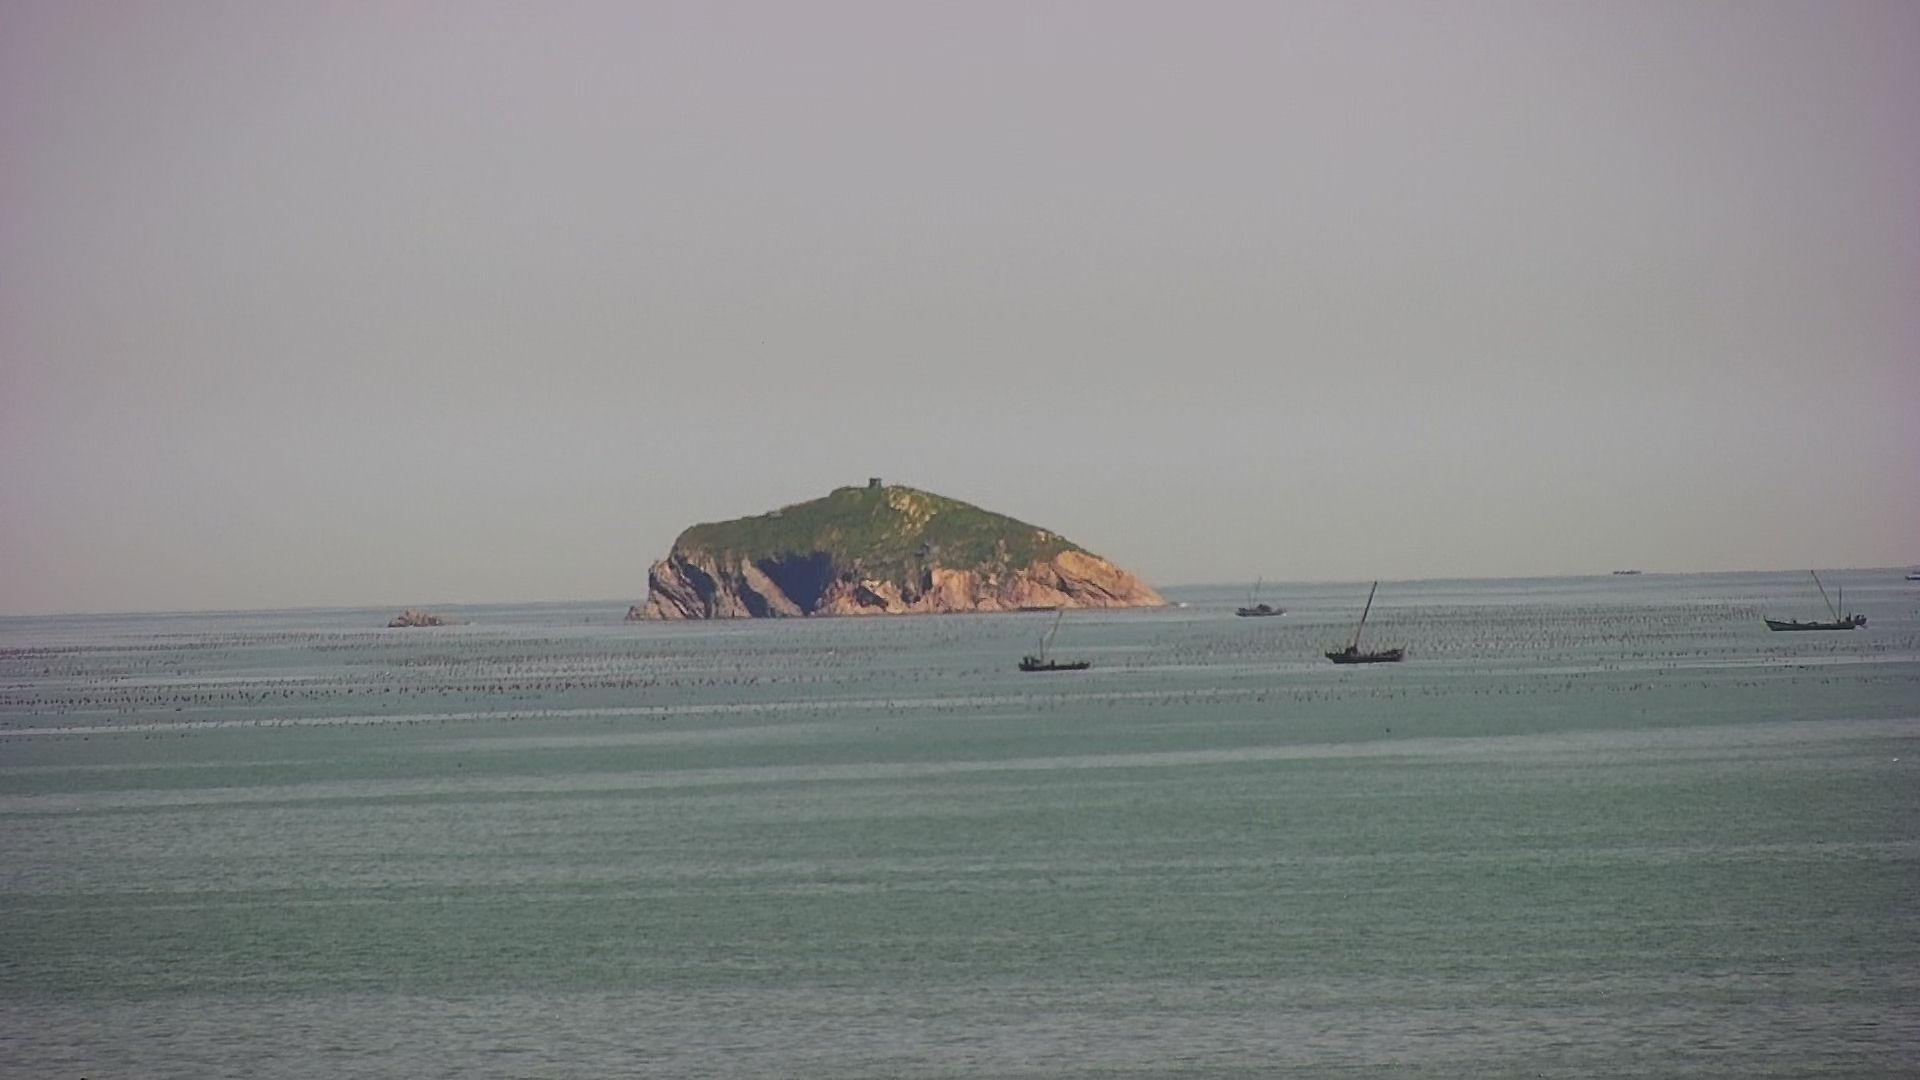boat: (1323, 578, 1407, 669), (1763, 568, 1870, 637), (1017, 607, 1093, 674), (1229, 571, 1284, 622)
rock: (611, 475, 1193, 626)
